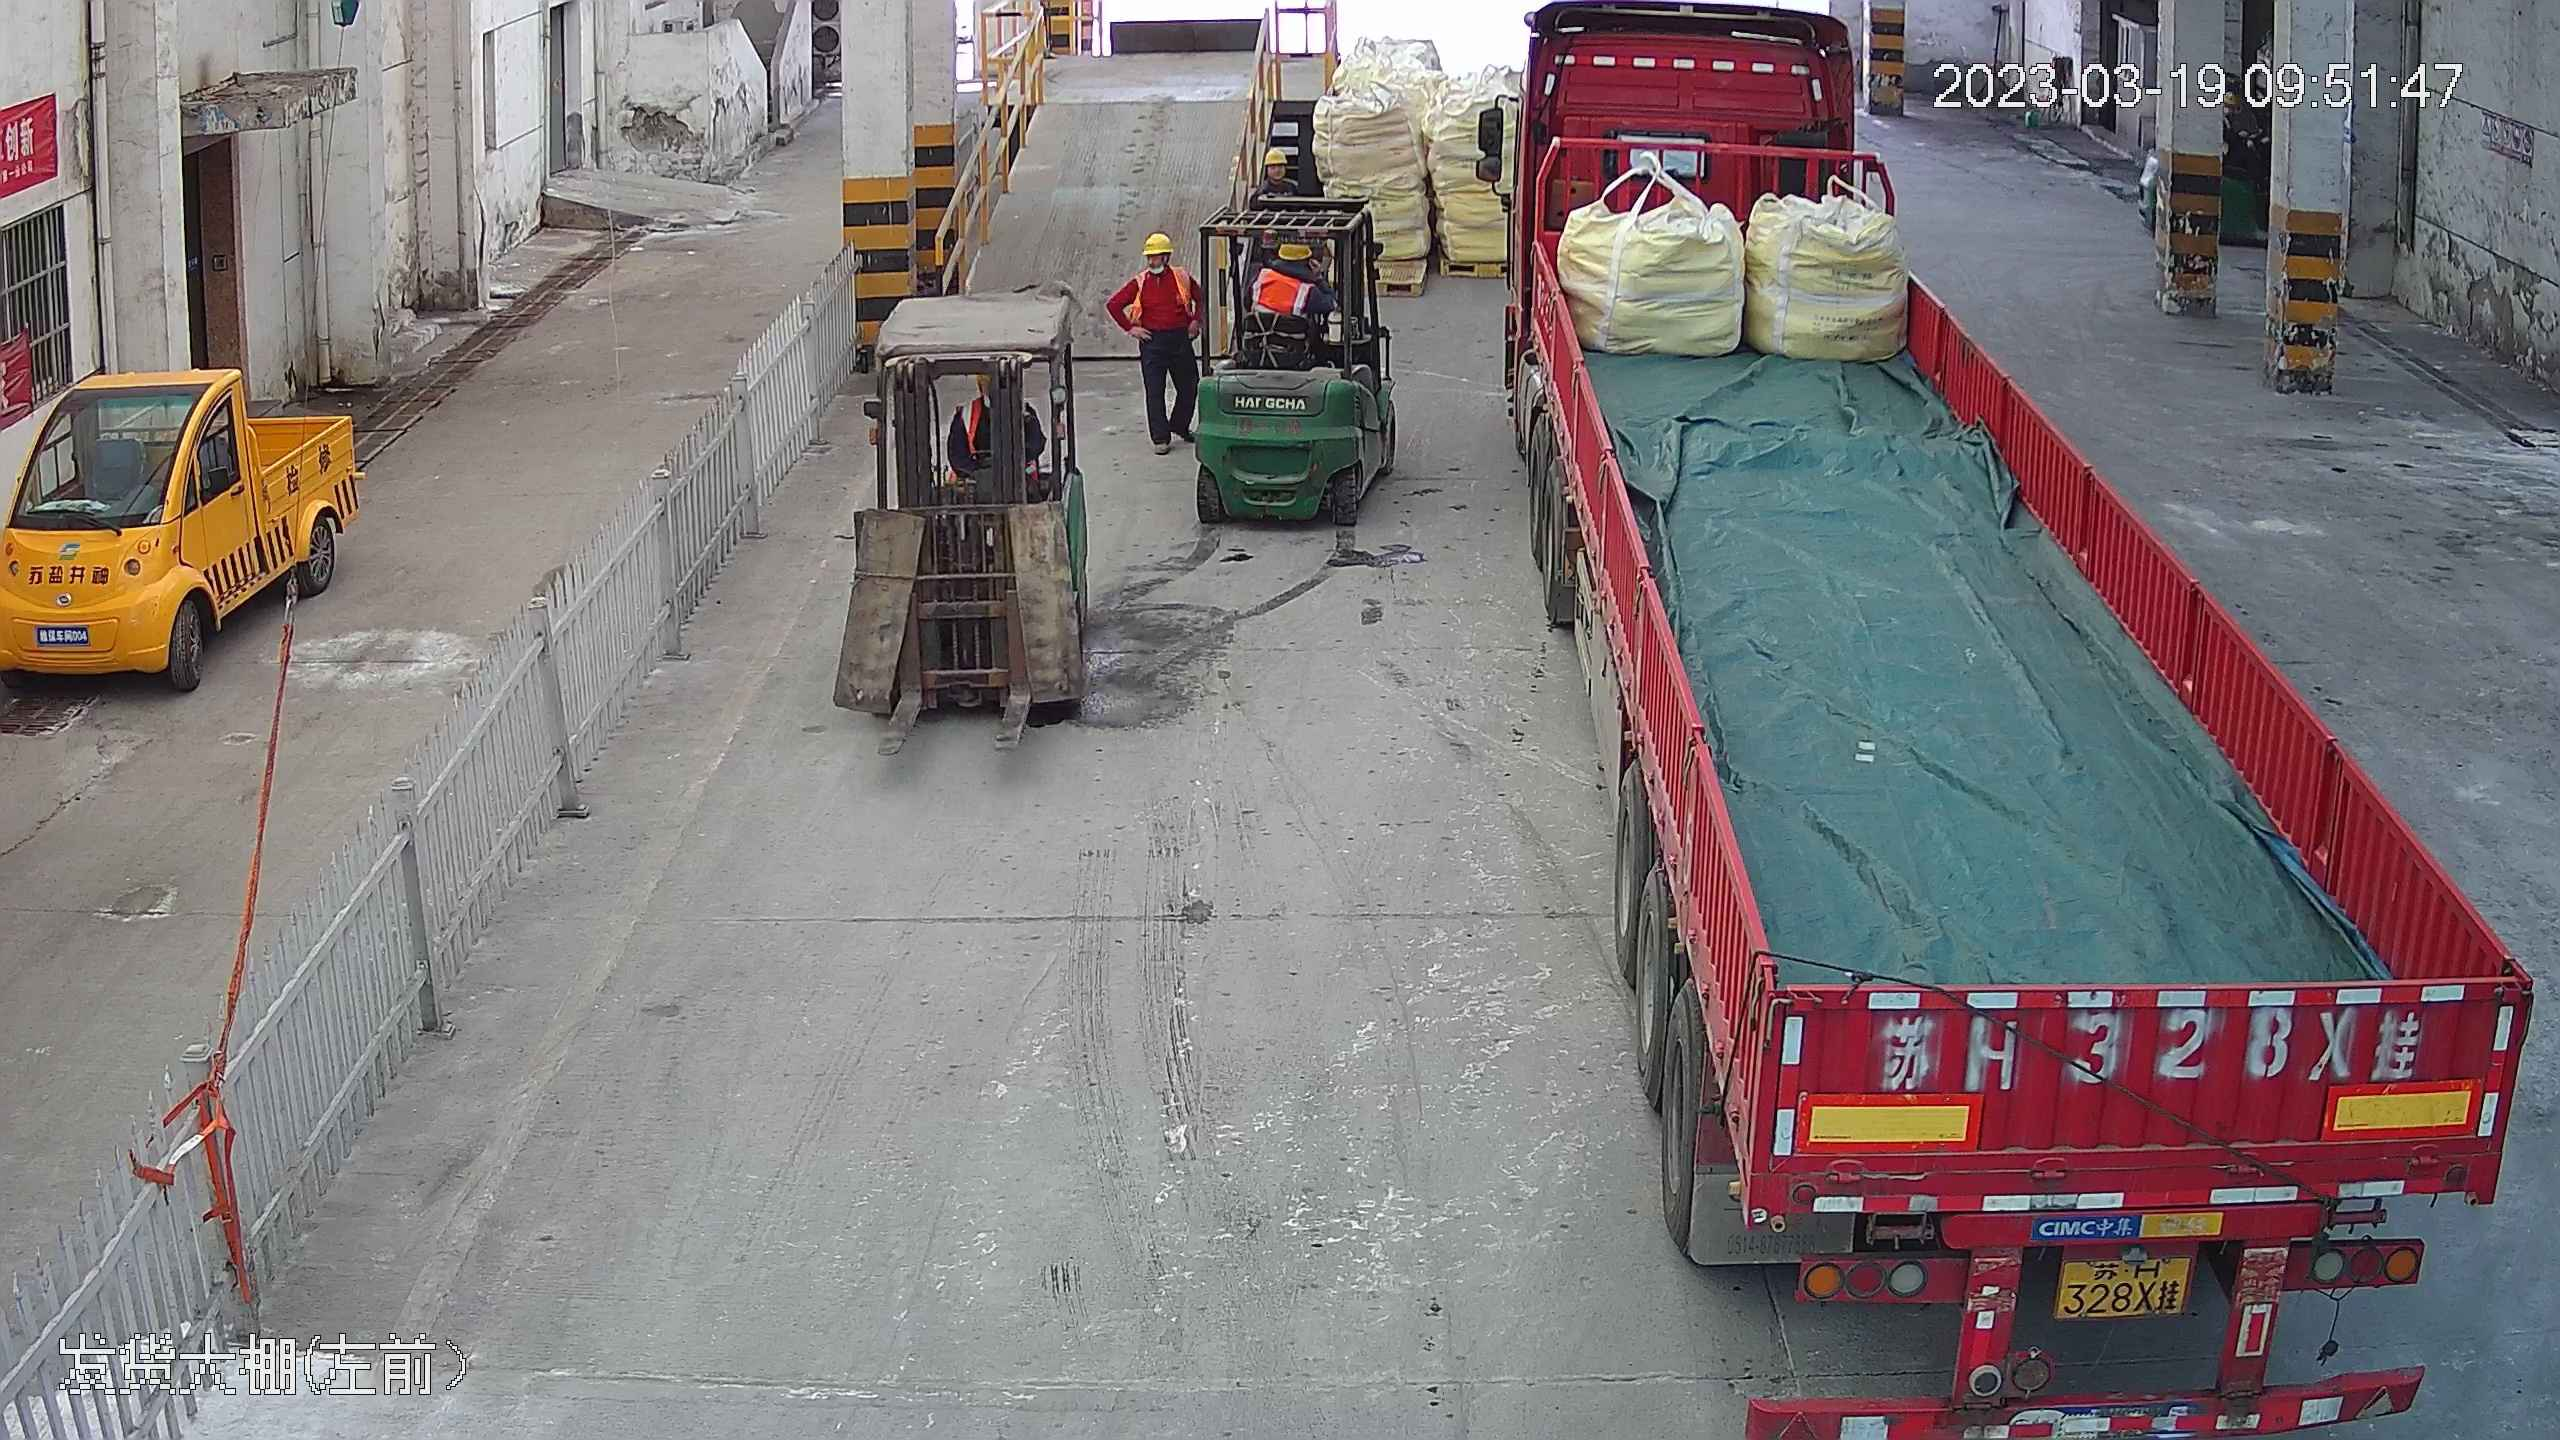head: (1123, 232, 1191, 300), (1259, 240, 1321, 306)
helmet: (1280, 241, 1314, 266), (1141, 231, 1174, 254), (1264, 150, 1288, 166)
people: (1109, 228, 1198, 453)
truck: (1496, 3, 2556, 1428)
